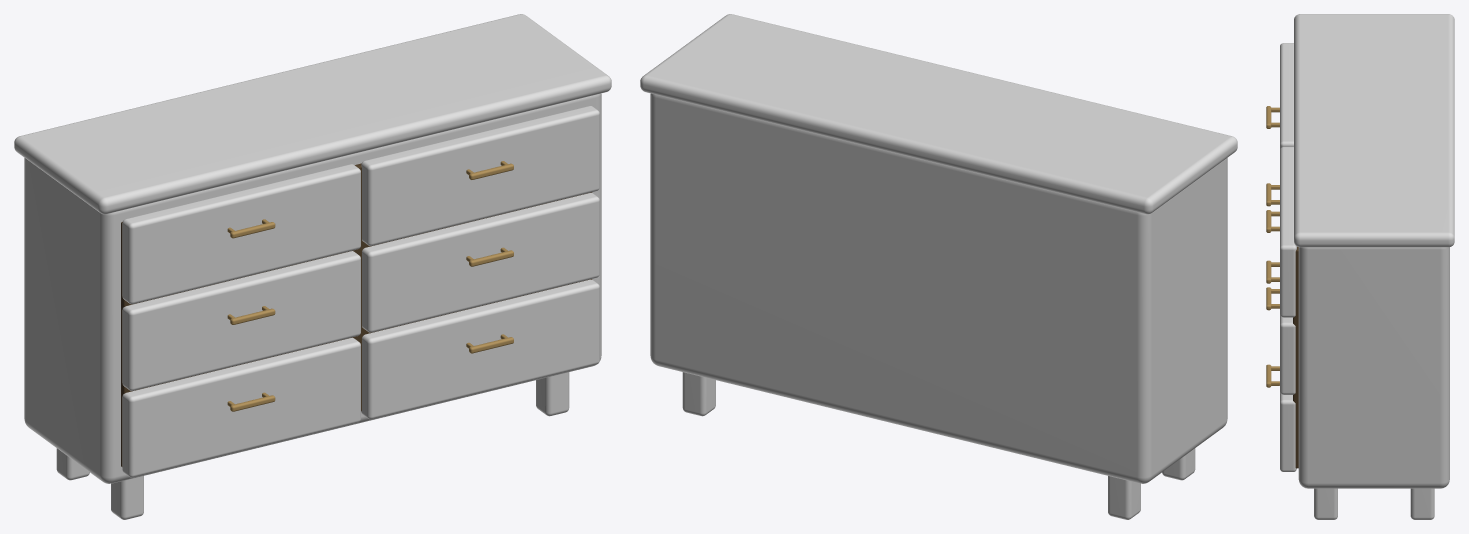
File: dresser.glb
3 views of the same model, side by side, from view 1: azimuth 30°, elevation 25°; view 2: azimuth 150°, elevation 25°; view 3: azimuth 270°, elevation 25° (orthographic). The views are drawn at different scales.
Visible parts, largest first — view 1: Overhanging solid oak top, Oak cabinet carcass, Drawer 3 solid oak front, Drawer 6 solid oak front, Drawer 1 solid oak front, Drawer 2 solid oak front, Drawer 4 solid oak front, Drawer 5 solid oak front, Recessed drawer reveals, Tapered appearance oak foot.002, Tapered appearance oak foot; view 2: Oak cabinet carcass, Overhanging solid oak top, Tapered appearance oak foot.003, Tapered appearance oak foot.001; view 3: Overhanging solid oak top, Oak cabinet carcass, Drawer 6 solid oak front, Drawer 3 solid oak front, Drawer 5 solid oak front, Drawer 4 solid oak front, Recessed drawer reveals, Tapered appearance oak foot.003, Tapered appearance oak foot.002.
Boxes of the visible parts, bbox=[...] form: Overhanging solid oak top: bbox=[14, 14, 611, 214]; Oak cabinet carcass: bbox=[24, 93, 601, 483]; Drawer 3 solid oak front: bbox=[122, 164, 360, 304]; Drawer 6 solid oak front: bbox=[361, 106, 599, 245]; Drawer 1 solid oak front: bbox=[122, 337, 360, 477]; Drawer 2 solid oak front: bbox=[122, 251, 360, 390]; Drawer 4 solid oak front: bbox=[361, 279, 599, 419]; Drawer 5 solid oak front: bbox=[362, 193, 599, 332]; Recessed drawer reveals: bbox=[121, 163, 592, 466]; Tapered appearance oak foot.002: bbox=[536, 372, 569, 416]; Tapered appearance oak foot: bbox=[111, 476, 143, 519]; Oak cabinet carcass: bbox=[650, 93, 1227, 483]; Overhanging solid oak top: bbox=[640, 14, 1237, 214]; Tapered appearance oak foot.003: bbox=[682, 372, 715, 416]; Tapered appearance oak foot.001: bbox=[1108, 476, 1140, 519]; Overhanging solid oak top: bbox=[1294, 14, 1454, 247]; Oak cabinet carcass: bbox=[1298, 247, 1449, 488]; Drawer 6 solid oak front: bbox=[1280, 147, 1296, 317]; Drawer 3 solid oak front: bbox=[1280, 43, 1293, 148]; Drawer 5 solid oak front: bbox=[1280, 315, 1295, 394]; Drawer 4 solid oak front: bbox=[1280, 392, 1296, 471]; Recessed drawer reveals: bbox=[1293, 246, 1298, 468]; Tapered appearance oak foot.003: bbox=[1410, 488, 1434, 519]; Tapered appearance oak foot.002: bbox=[1314, 488, 1337, 519].
Bounding box in the file's own units: 1.64 × 1.03 × 0.586.
